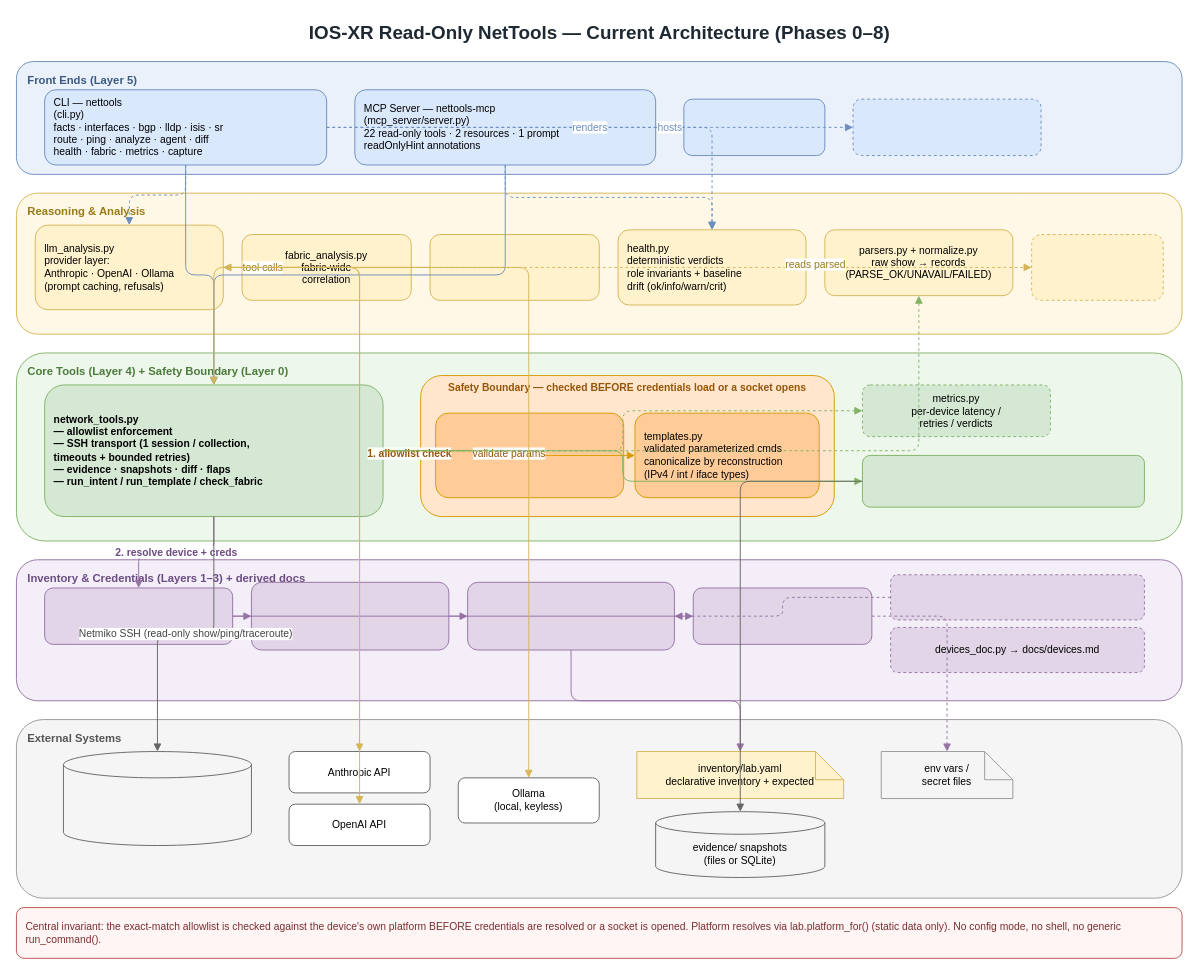
Image size: 1199x975. Some labels were removed from this diagram. The centre of each missing label's shape, as x and y in pixels:
"agent_loop.py bounded tool-calling loop (6 read-only tools)" belongs at (514,267).
"credential_resolver.py env / file providers" belongs at (782,615).
"Docker (stdio container)" belongs at (754,127).
"evidence_budget.py char budgeting / mid-truncation" belongs at (1097,267).
"evidence_store.py File / SQLite backends (prune, golden)" belongs at (1003,480).
"inventory.py joins creds → device dicts" belongs at (138,615).
"inventory_model.py pydantic schema + YAML loader (extra=forbid)" belongs at (570,615).
"IOS-XR Devices 9 nodes · 172.20.250.0/24 (P / PE / RR)" belongs at (157,798).
"lab.py credential-free read path all_devices · platform_for" belongs at (350,615).
"output.py json / table / summary + exit codes" belongs at (946,127).
"platforms.py APPROVED_COMMANDS (exact-match) PLATFORM_INTENTS · VERB_ALLOWLIST" belongs at (529,455).
"topology.py expected counts + anomalies" belongs at (1017,597).
